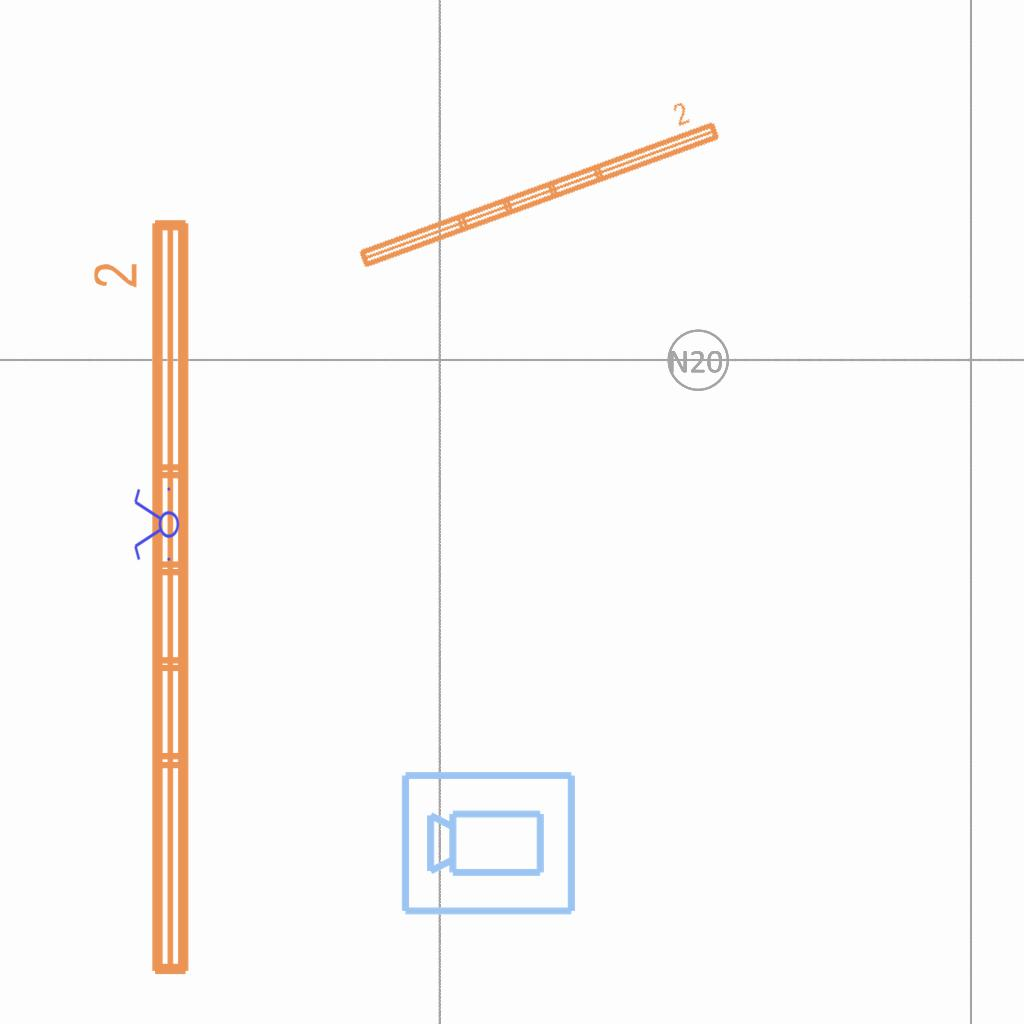Ambulanz_Pendelleuchte_LED: (89, 211, 201, 985), (343, 90, 726, 276)
KFO_Kamera_mit_Festobjektiv: (398, 765, 580, 919)
Serienschalter: (132, 483, 180, 567)
